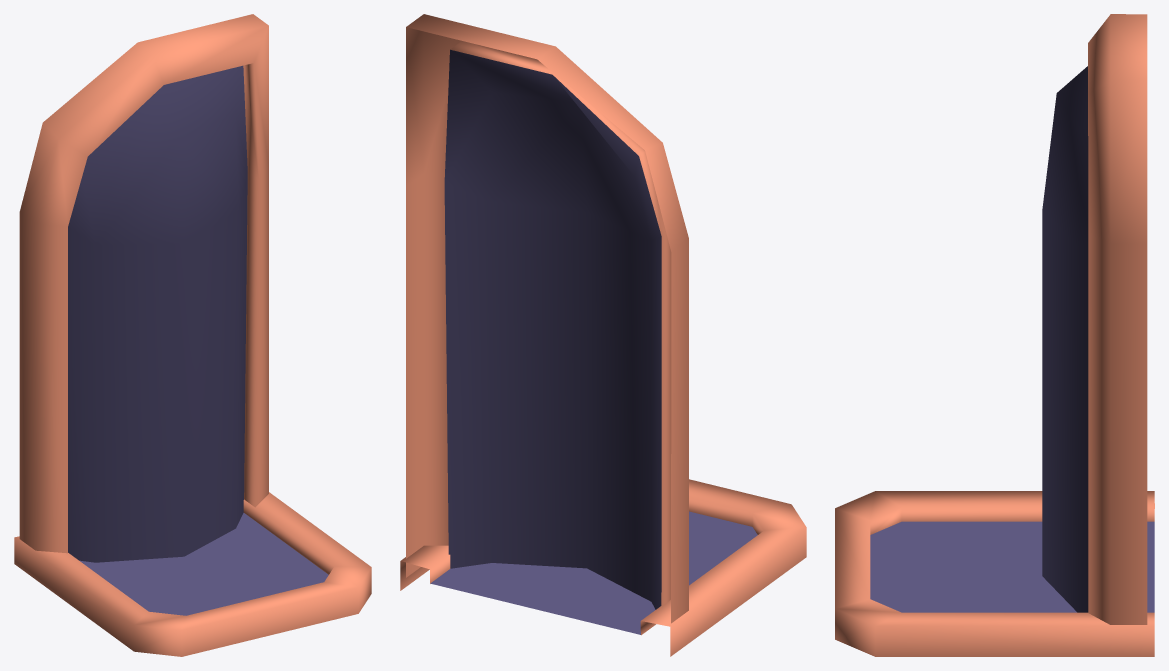
The model's file is CoolPool.fbx.
The picture shows the model from 3 angles, left to right: view 1: azimuth 30°, elevation 25°; view 2: azimuth 150°, elevation 25°; view 3: azimuth 270°, elevation 25°; orthographic projection. The views are drawn at different scales.
Visible parts, largest first — view 1: polySurface17, polySurface15, polySurface11, polySurface13; view 2: polySurface17, polySurface15, polySurface11, polySurface13; view 3: polySurface15, polySurface11, polySurface17, polySurface13.
Boxes of the visible parts, left/top/right/bottom form: polySurface17: left=68, top=65, right=247, bottom=562; polySurface15: left=19, top=14, right=268, bottom=553; polySurface11: left=14, top=492, right=371, bottom=656; polySurface13: left=79, top=513, right=328, bottom=615; polySurface17: left=444, top=49, right=661, bottom=609; polySurface15: left=406, top=14, right=688, bottom=623; polySurface11: left=400, top=479, right=806, bottom=656; polySurface13: left=430, top=511, right=757, bottom=634; polySurface15: left=1088, top=14, right=1147, bottom=624; polySurface11: left=835, top=491, right=1154, bottom=656; polySurface17: left=1042, top=66, right=1088, bottom=612; polySurface13: left=870, top=521, right=1154, bottom=612.
Size of the model in its own units: 11.19 by 22.27 by 11.2.
